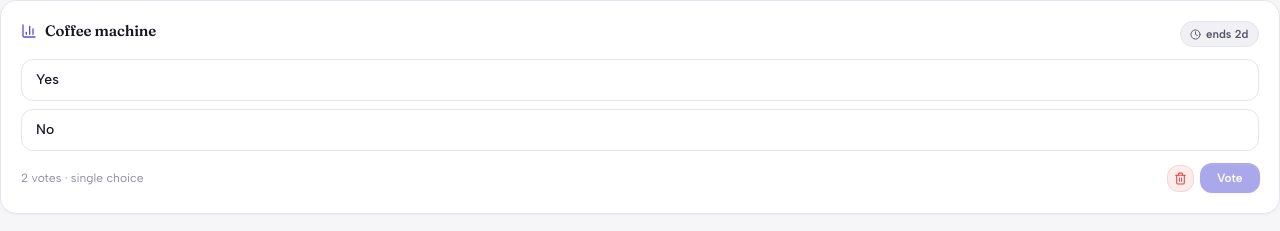
Test: PollCard — voting interactions › deselects the same option when tapped again in single-choice
What coordinates should you click on to do the following:
click the radio button labelled "Yes"
I would click on:
 (47, 80)
Its box is [21,59,1259,101].
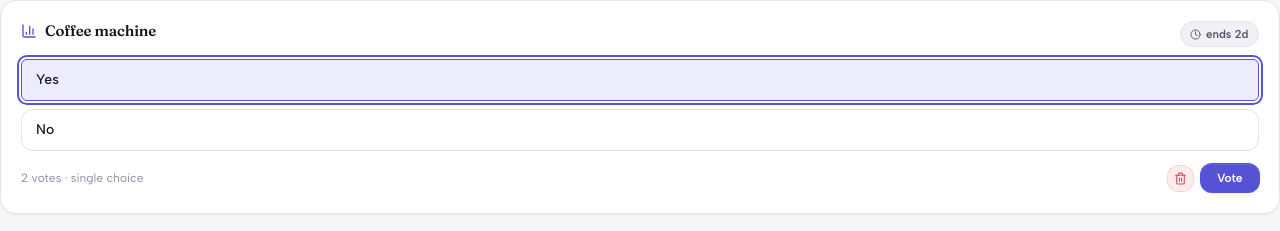
What coordinates should you click on to do the following:
click the radio button labelled "Yes"
I would click on:
 (47, 80)
Its box is [21,59,1259,101].
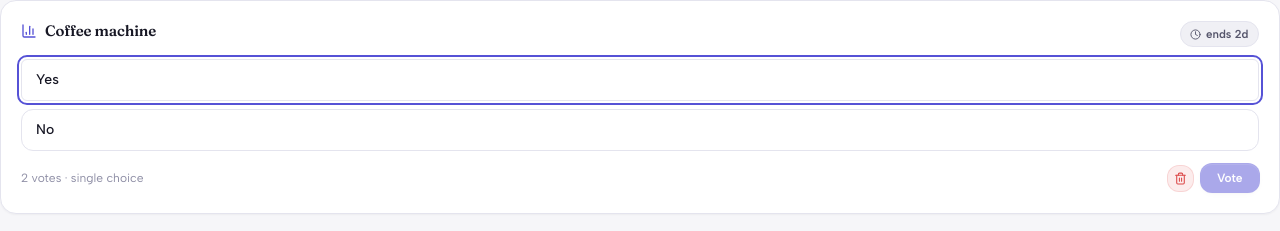
Now the button "Vote" is disabled, box [1200,163,1259,193]
